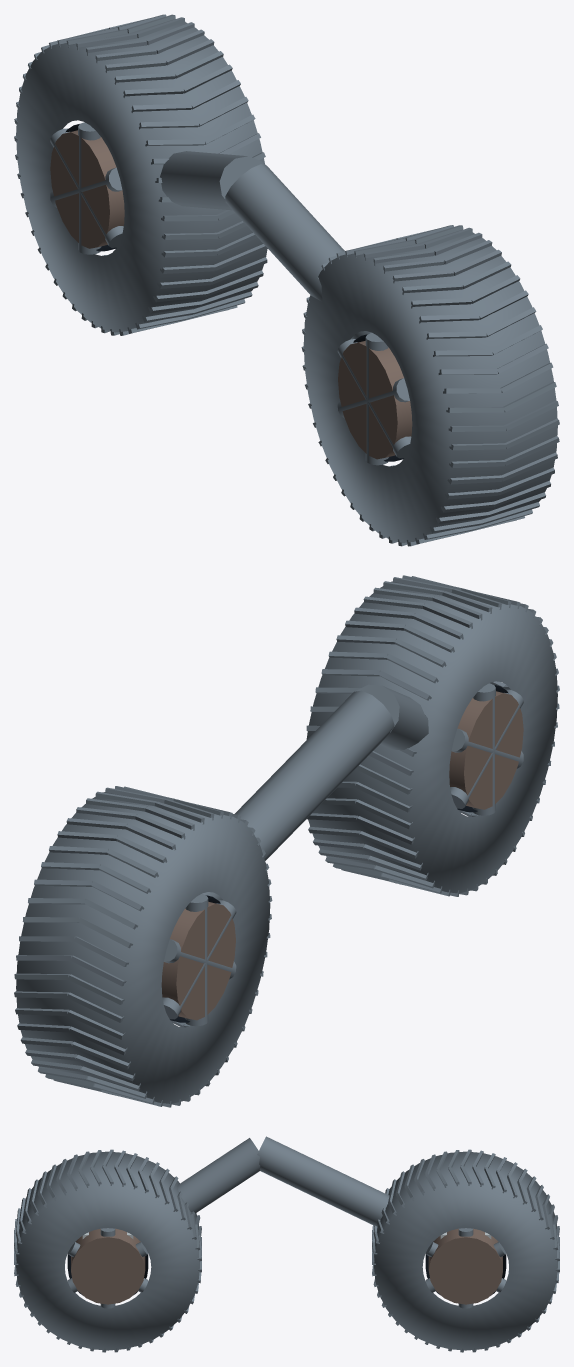
The model's file is perseverance_mobility.rocker_right.bogie.glb.
The picture shows the model from 3 angles, top to bottom: view 1: azimuth 30°, elevation 25°; view 2: azimuth 150°, elevation 25°; view 3: azimuth 270°, elevation 25°; orthographic projection. The views are drawn at different scales.
Visible parts, largest first — view 1: perseverance_mobility.rocker_right.bogie.axle_middle.wheel_m (×2), perseverance_mobility.rocker_right.bogie.steer_rear.wheel_re (×2), perseverance_mobility.rocker_right.bogie.mesh_Machined_steel; view 2: perseverance_mobility.rocker_right.bogie.steer_rear.wheel_re (×2), perseverance_mobility.rocker_right.bogie.axle_middle.wheel_m (×2), perseverance_mobility.rocker_right.bogie.mesh_Machined_steel; view 3: perseverance_mobility.rocker_right.bogie.steer_rear.wheel_re (×2), perseverance_mobility.rocker_right.bogie.axle_middle.wheel_m (×2), perseverance_mobility.rocker_right.bogie.mesh_Machined_steel.
Boxes of the visible parts, x1,y1,x2,y2 form: perseverance_mobility.rocker_right.bogie.axle_middle.wheel_m (×2): [301, 225, 559, 546]; perseverance_mobility.rocker_right.bogie.steer_rear.wheel_re (×2): [14, 14, 267, 335]; perseverance_mobility.rocker_right.bogie.mesh_Machined_steel: [160, 151, 371, 339]; perseverance_mobility.rocker_right.bogie.steer_rear.wheel_re (×2): [14, 786, 272, 1107]; perseverance_mobility.rocker_right.bogie.axle_middle.wheel_m (×2): [306, 575, 559, 896]; perseverance_mobility.rocker_right.bogie.mesh_Machined_steel: [202, 684, 428, 900]; perseverance_mobility.rocker_right.bogie.steer_rear.wheel_re (×2): [372, 1149, 559, 1352]; perseverance_mobility.rocker_right.bogie.axle_middle.wheel_m (×2): [14, 1149, 201, 1352]; perseverance_mobility.rocker_right.bogie.mesh_Machined_steel: [177, 1136, 389, 1226].
Bounding box in the file's own units: 0.3112 × 0.5641 × 1.56.
